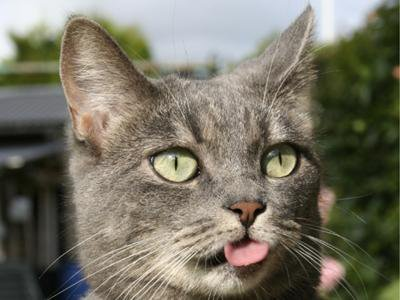cat: (43, 4, 338, 300)
cat-face: (45, 2, 337, 299)
